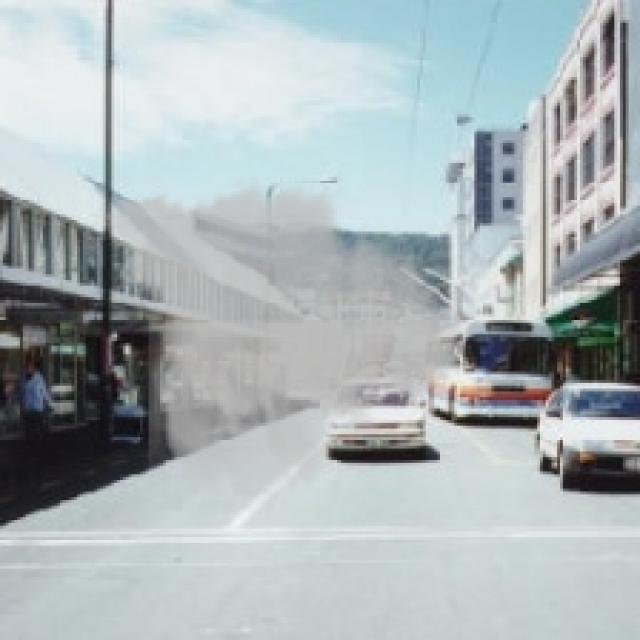Smoke: (88, 172, 480, 514)
